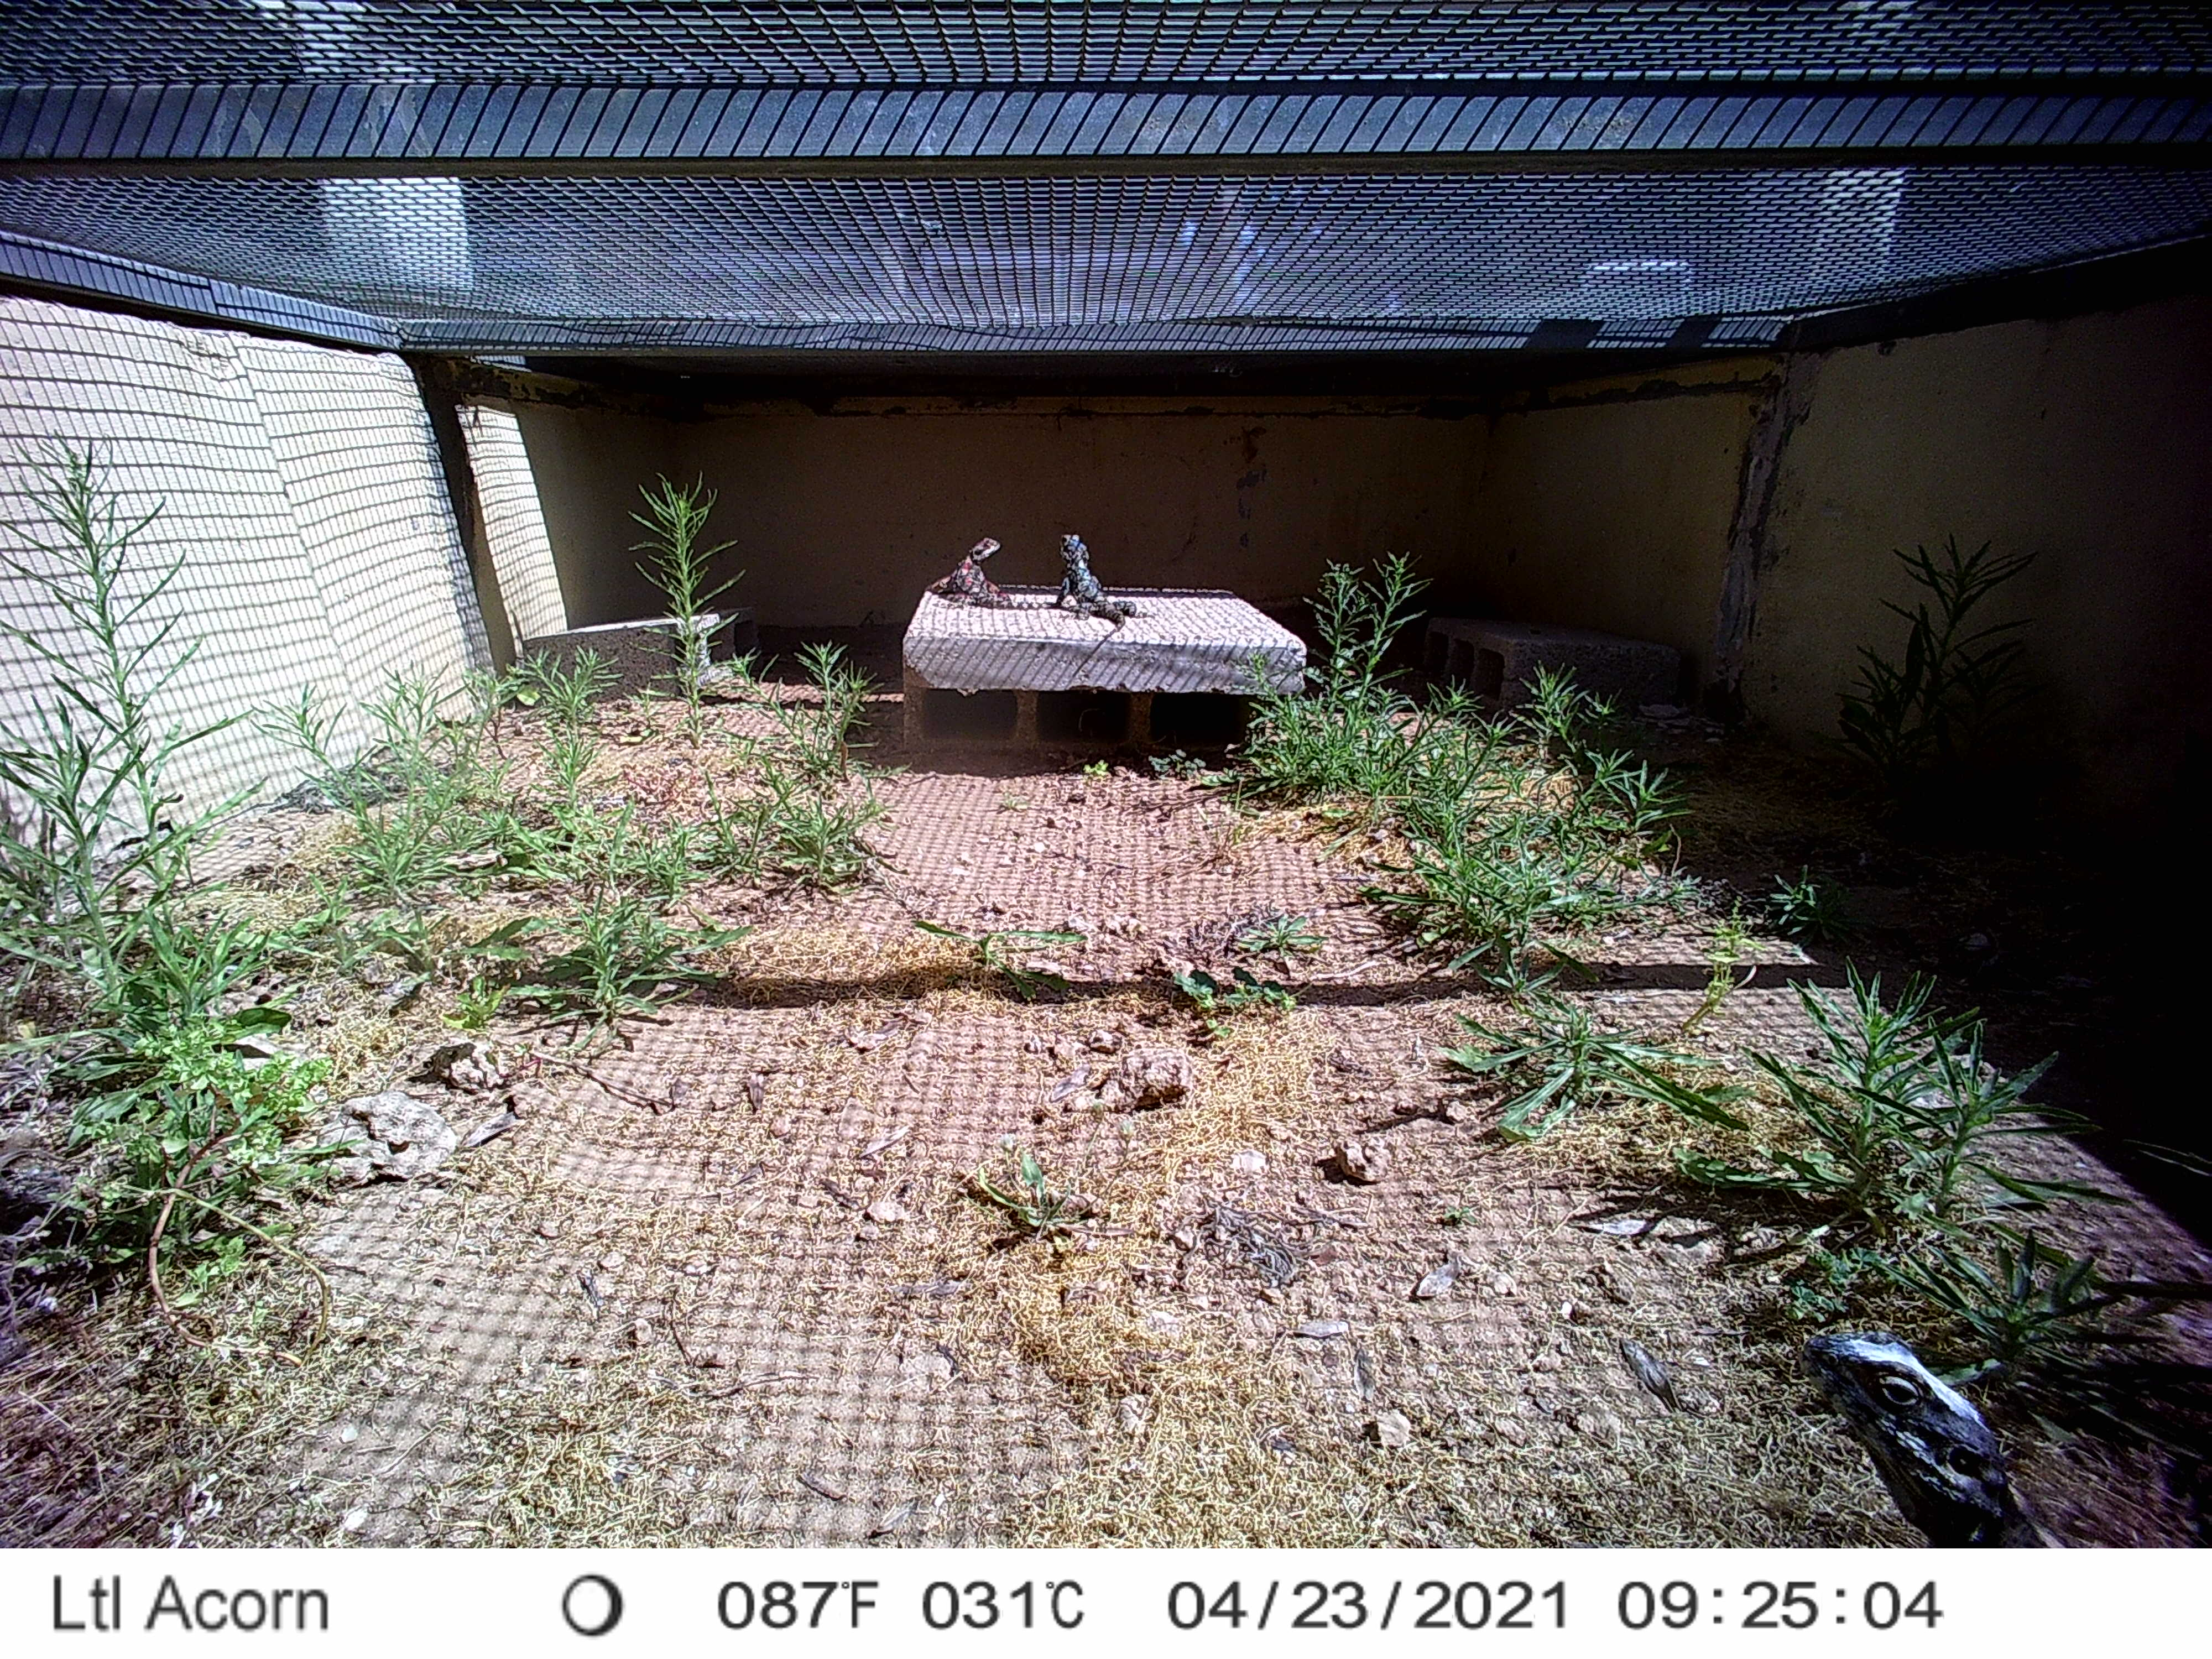lizard: (1799, 1316, 2087, 1546), (1057, 532, 1139, 683), (928, 535, 1049, 612)
